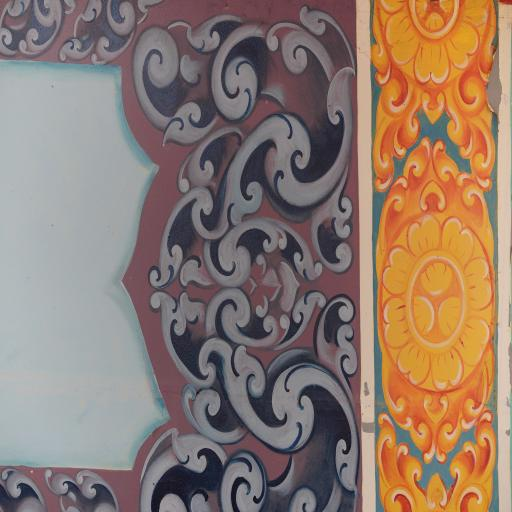hoa: (376, 210, 498, 392), (373, 0, 494, 92)
la: (132, 7, 367, 280), (131, 286, 363, 512), (378, 364, 499, 450), (381, 138, 488, 221), (441, 73, 503, 187), (372, 71, 424, 194), (438, 411, 500, 512), (375, 412, 437, 512), (65, 0, 143, 68), (0, 0, 72, 61), (42, 465, 122, 512), (0, 465, 46, 512)
